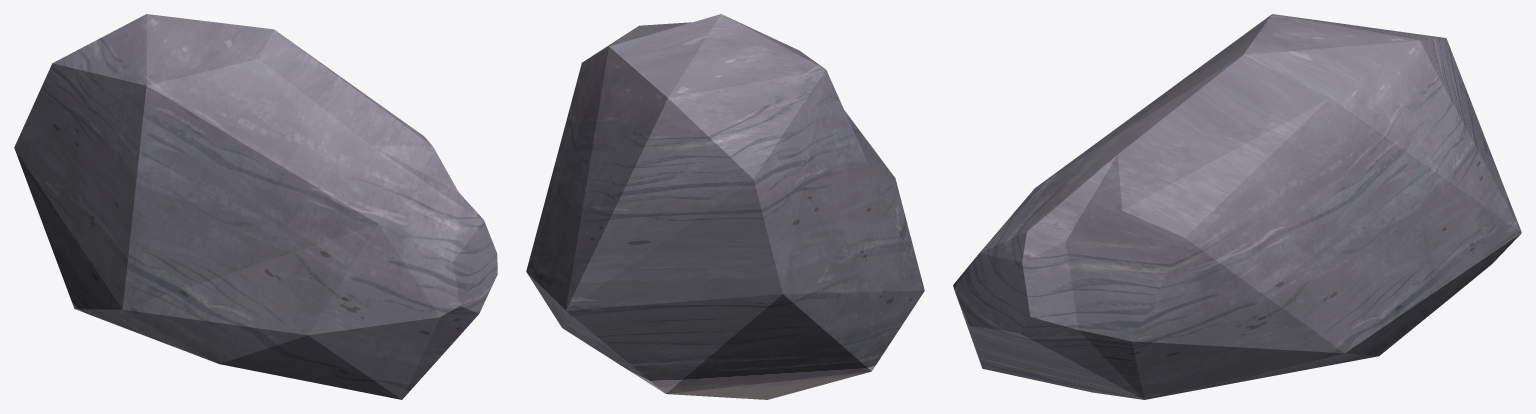
Rendered from rock_3.fbx.
The picture shows the model from 3 angles, left to right: view 1: azimuth 30°, elevation 25°; view 2: azimuth 150°, elevation 25°; view 3: azimuth 270°, elevation 25°; orthographic projection. The views are drawn at different scales.
Visible parts, largest first — view 1: rock 3; view 2: rock 3; view 3: rock 3.
Part boxes in pixels (bbox=[...]): rock 3: bbox=[14, 14, 497, 399]; rock 3: bbox=[526, 14, 924, 399]; rock 3: bbox=[953, 14, 1521, 399].
Size of the model in its own units: 1829 by 1579 by 2550.
